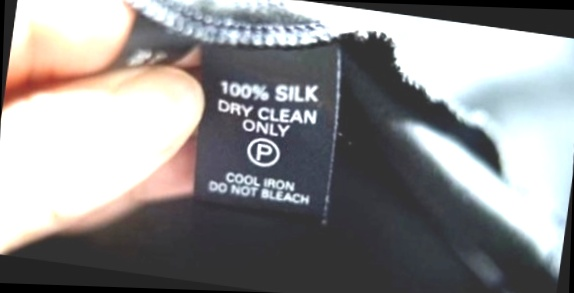dry_clean_any_solvent_except_trichloroethylene: (244, 133, 285, 170)
